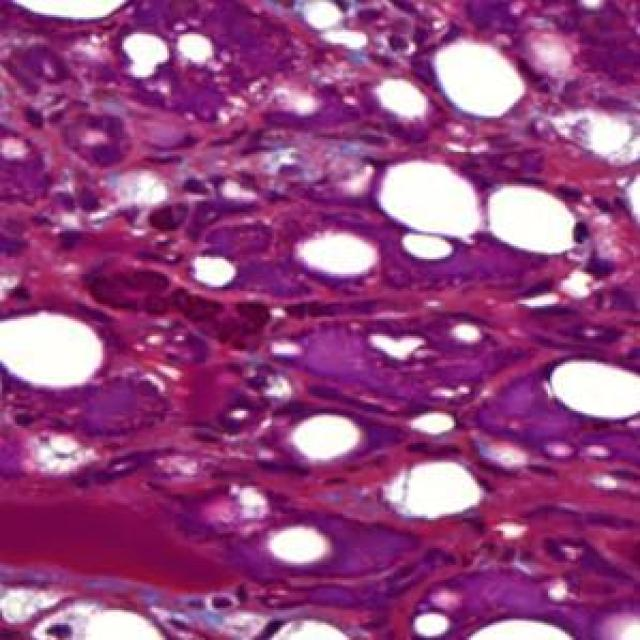steatosis: (368, 150, 486, 244), (432, 34, 531, 122), (484, 182, 584, 259), (291, 406, 360, 464)
